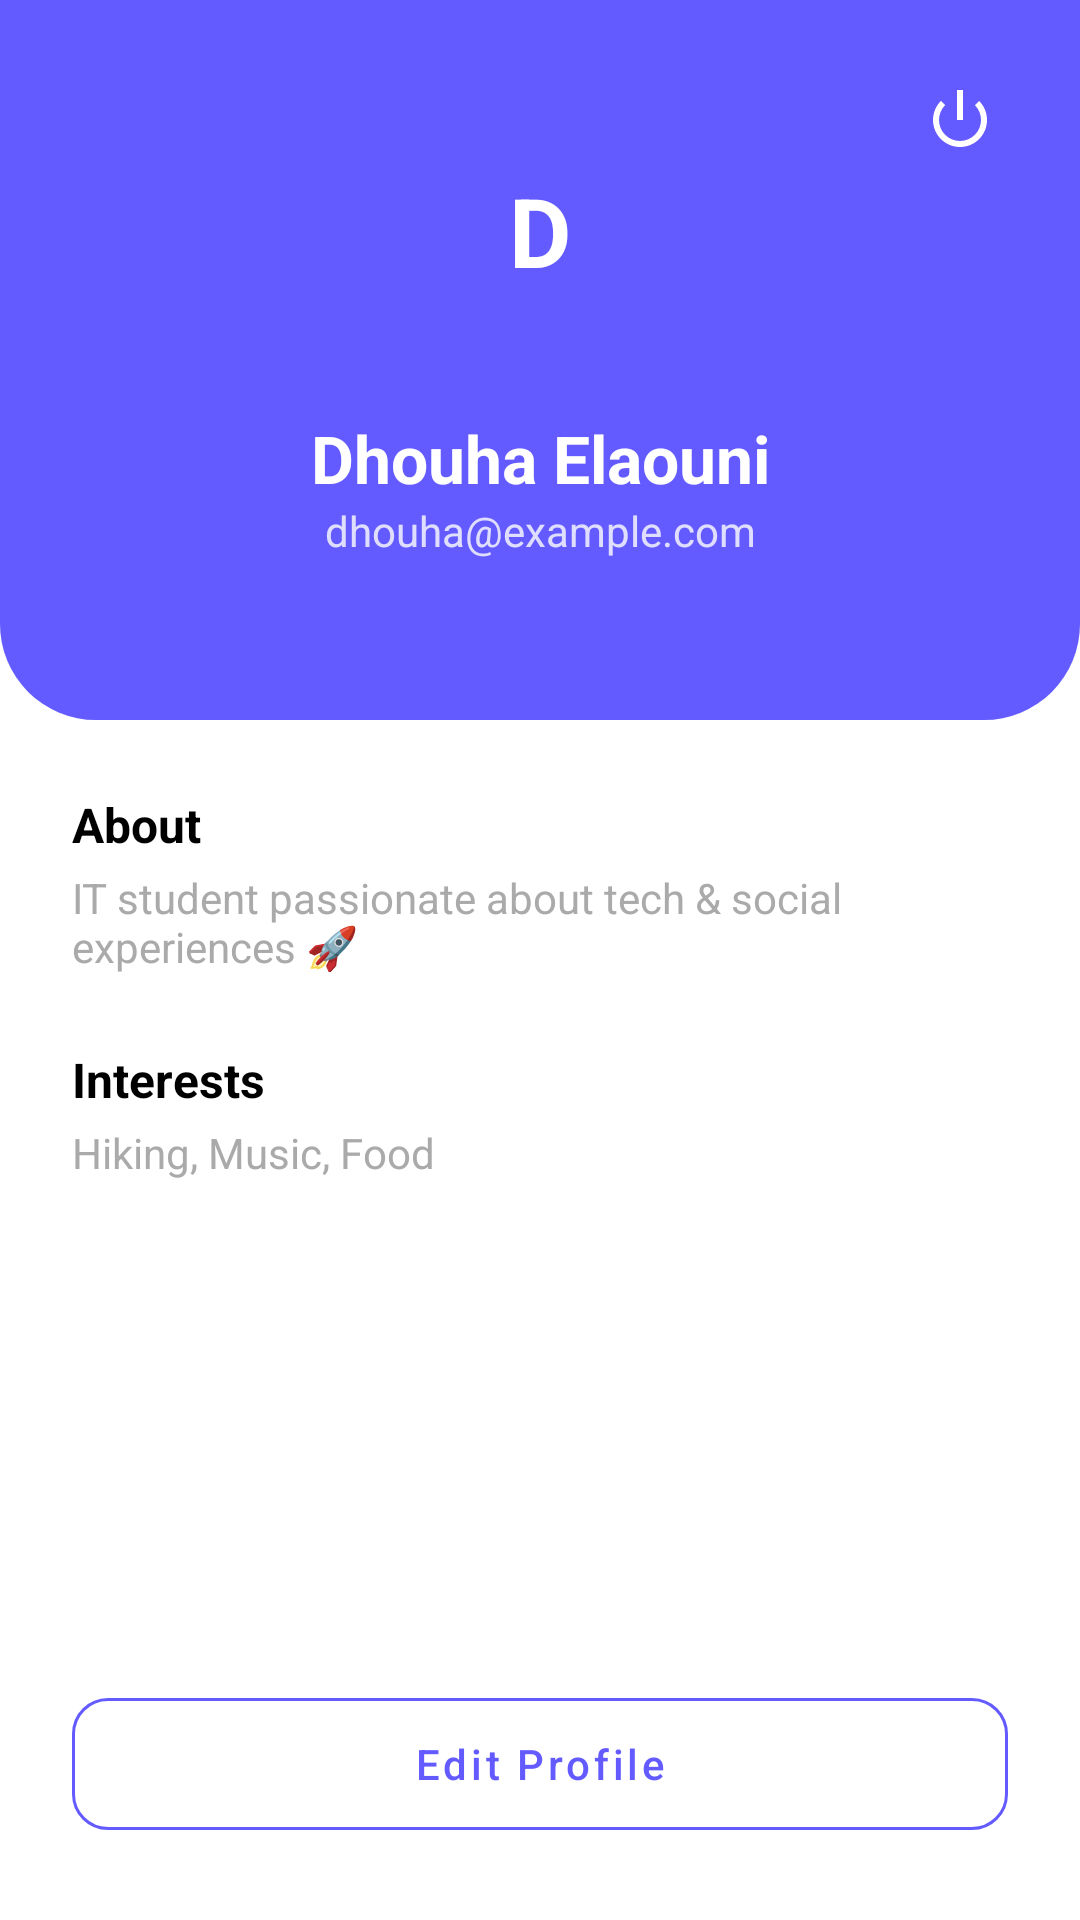

Icons on this 1080×1920 Android screen, each with its box as [x1,y1,x2,y2]:
lock power off: [933,90,987,147]
